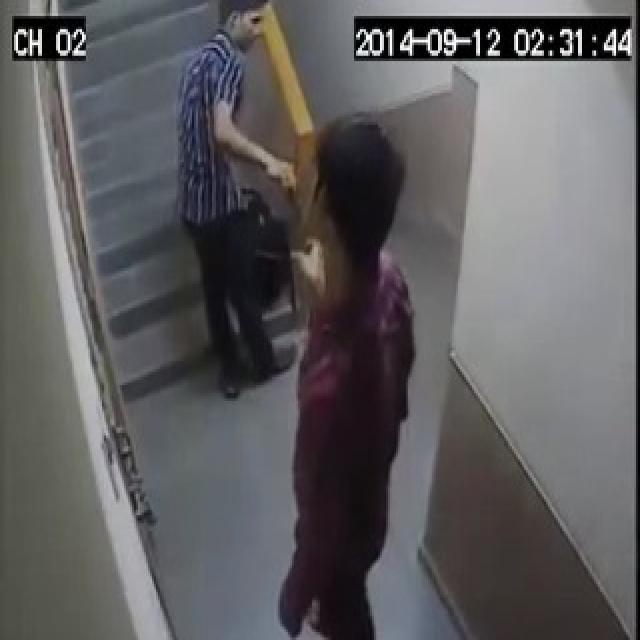thief: (298, 113, 417, 640), (180, 0, 288, 396)
